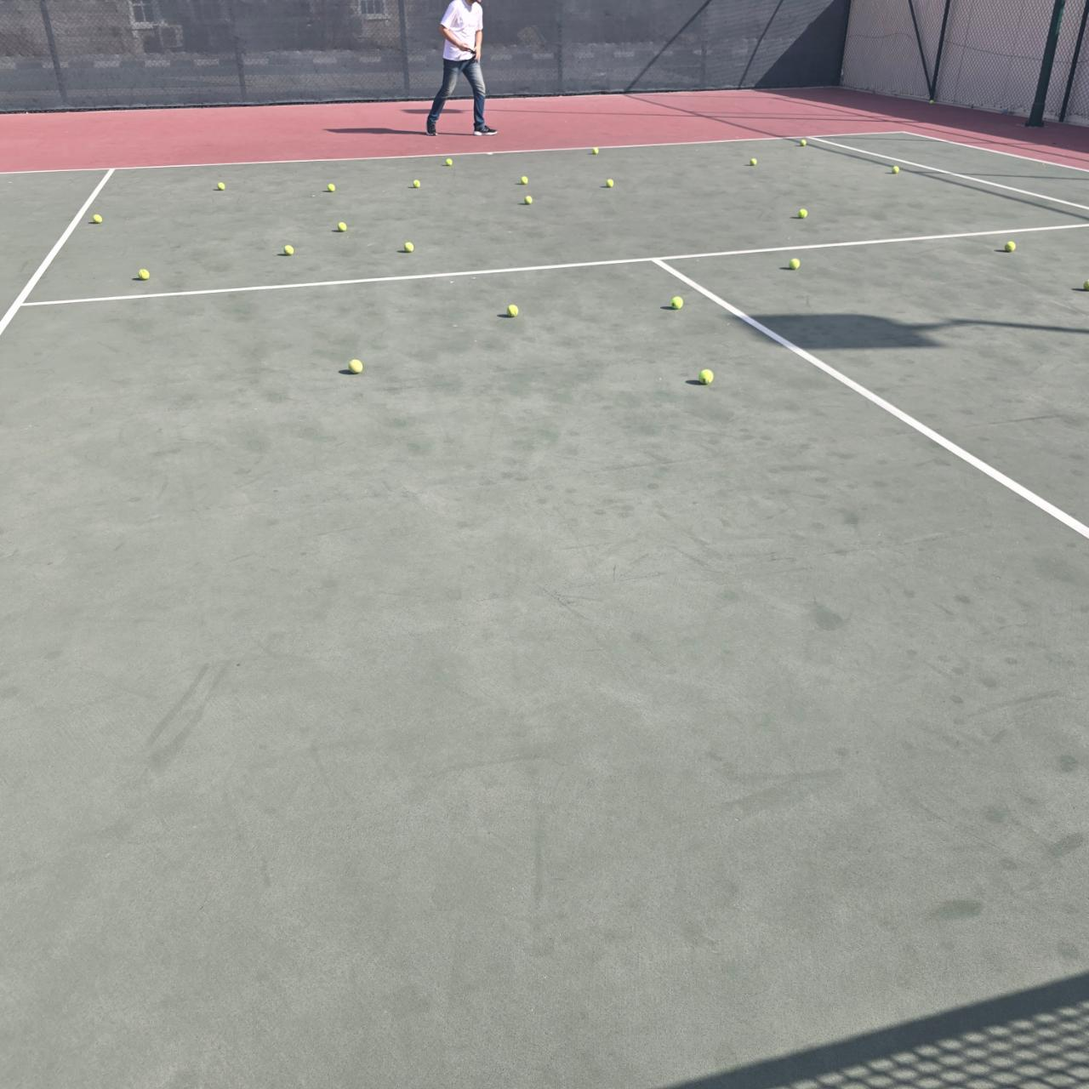tennis-ball: (698, 366, 714, 384), (348, 356, 362, 373), (670, 294, 683, 309), (506, 304, 519, 316), (138, 268, 150, 280), (1004, 241, 1016, 252), (283, 245, 294, 256), (789, 258, 800, 269), (403, 241, 413, 252), (92, 214, 103, 224), (798, 208, 808, 219), (337, 222, 347, 232), (524, 195, 533, 205), (413, 179, 421, 189), (327, 183, 335, 192), (606, 179, 614, 188), (892, 165, 900, 174), (1083, 279, 1089, 291), (217, 182, 225, 190), (750, 158, 758, 166), (521, 176, 528, 185), (446, 158, 453, 166), (800, 139, 807, 147), (593, 147, 599, 155), (929, 99, 934, 104)
